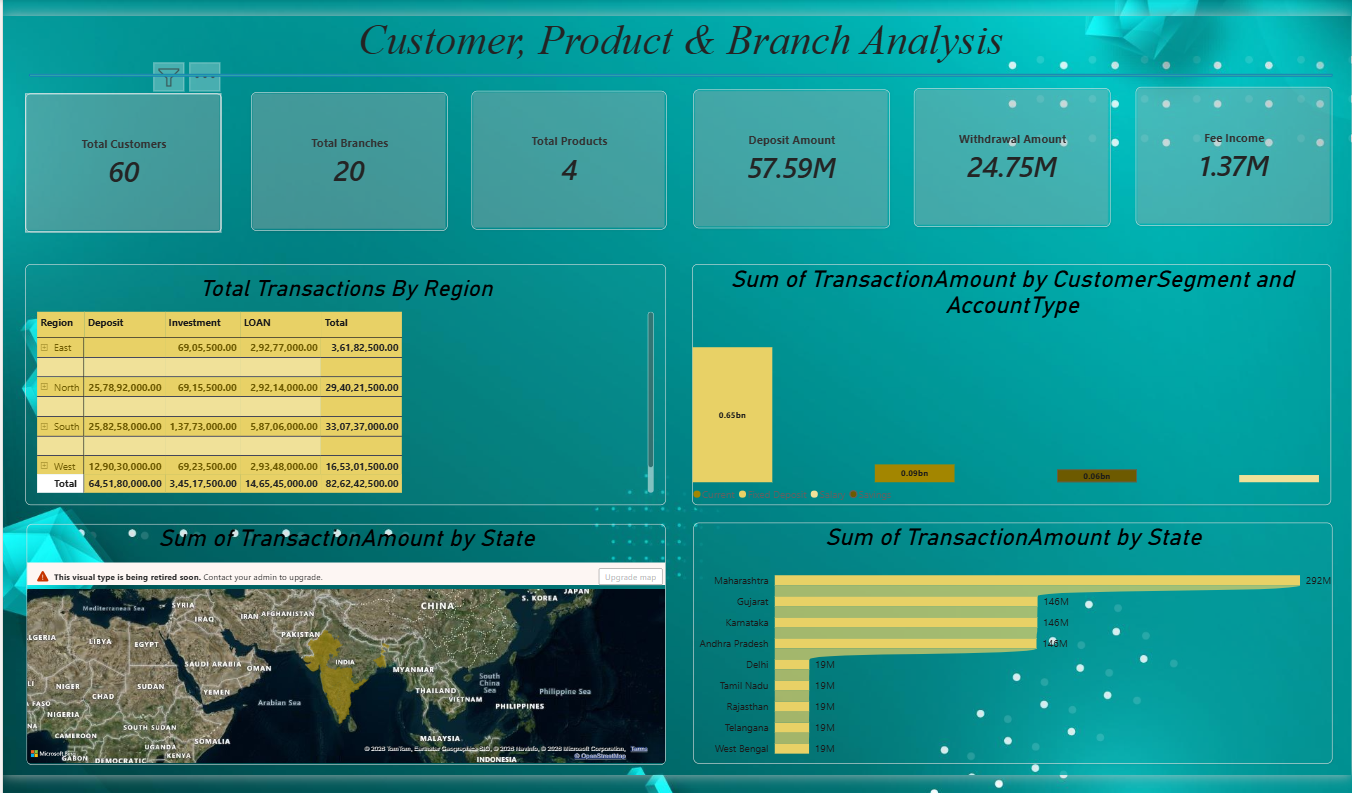

The dashboard page shown, as its layout file describes it:
{"tool":"powerbi","page":{"name":"Customer, Product & Branch Analysis","canvas":[1920,1080],"ordinal":1},"visuals":[{"type":"cardVisual","fields":{"Data":["Measures 1.Total Products"]},"box":[666.5,106.7,277.6,197],"z":0},{"type":"cardVisual","fields":{"Data":["Measures 1.Total Customers"]},"box":[31.8,110.5,279.9,197],"z":1000},{"type":"cardVisual","fields":{"Data":["Measures 1.Withdrawal Amount"]},"box":[1295.5,103,279.9,197],"z":2000},{"type":"cardVisual","fields":{"Data":["Measures 1.Fee Income"]},"box":[1610,101.1,279.9,197],"z":3000},{"type":"cardVisual","fields":{"Data":["Measures 1.Deposit Amount"]},"box":[981,104.8,279.9,197],"z":4000},{"type":"cardVisual","fields":{"Data":["Measures 1.Total Branches"]},"box":[352,108.6,279.9,197],"z":5000},{"type":"pivotTable","title":"Total Transactions By Region","fields":{"Columns":["Combined_Transactions1.ProductCategory"],"Rows":["Combined_Transactions1.Region","Combined_Transactions1.BranchName"],"Values":["Sum(Combined_Transactions1.TransactionAmount)"]},"box":[31.8,352,911.2,342.6],"z":6000},{"type":"columnChart","fields":{"Category":["Combined_Transactions1.CustomerSegment"],"Series":["Combined_Transactions1.AccountType"],"Y":["Sum(Combined_Transactions1.TransactionAmount)"]},"box":[979.1,352,909,342.6],"z":7000},{"type":"barChart","fields":{"Category":["Combined_Transactions1.State"],"Y":["Sum(Combined_Transactions1.TransactionAmount)"]},"box":[981,720.8,909,342.6],"z":8000},{"type":"filledMap","fields":{"Category":["Combined_Transactions1.State"]},"box":[33.7,722.6,909,342.6],"z":9000},{"type":"shape","title":"Customer, Product & Branch Analysis","box":[37.4,0,1853.4,86.1],"z":9001}]}

Visuals, with their boxes on the page's 1920x1080 design canvas (x1, y1, x2, y2). These are canvas units, not pixel positions in the 1352x793 screenshot, which may show the page scaled, cropped or inside an application window:
cardVisual - Measures 1.Total Products: rect(666, 107, 944, 304)
cardVisual - Measures 1.Total Customers: rect(32, 110, 312, 308)
cardVisual - Measures 1.Withdrawal Amount: rect(1296, 103, 1575, 300)
cardVisual - Measures 1.Fee Income: rect(1610, 101, 1890, 298)
cardVisual - Measures 1.Deposit Amount: rect(981, 105, 1261, 302)
cardVisual - Measures 1.Total Branches: rect(352, 109, 632, 306)
"Total Transactions By Region" pivotTable: rect(32, 352, 943, 695)
columnChart - Combined_Transactions1.CustomerSegment x Combined_Transactions1.AccountType: rect(979, 352, 1888, 695)
barChart - Combined_Transactions1.State x Sum(Combined_Transactions1.TransactionAmount): rect(981, 721, 1890, 1063)
filledMap - Combined_Transactions1.State: rect(34, 723, 943, 1065)
"Customer, Product & Branch Analysis" shape: rect(37, 0, 1891, 86)
